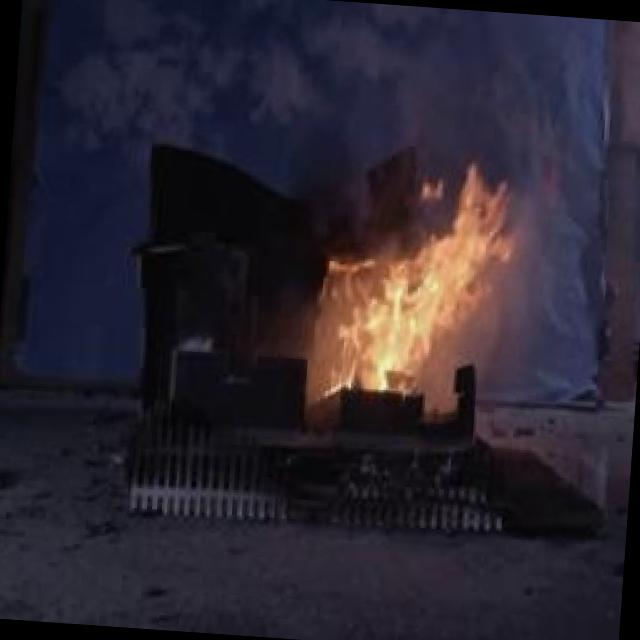fire: (304, 143, 517, 414)
